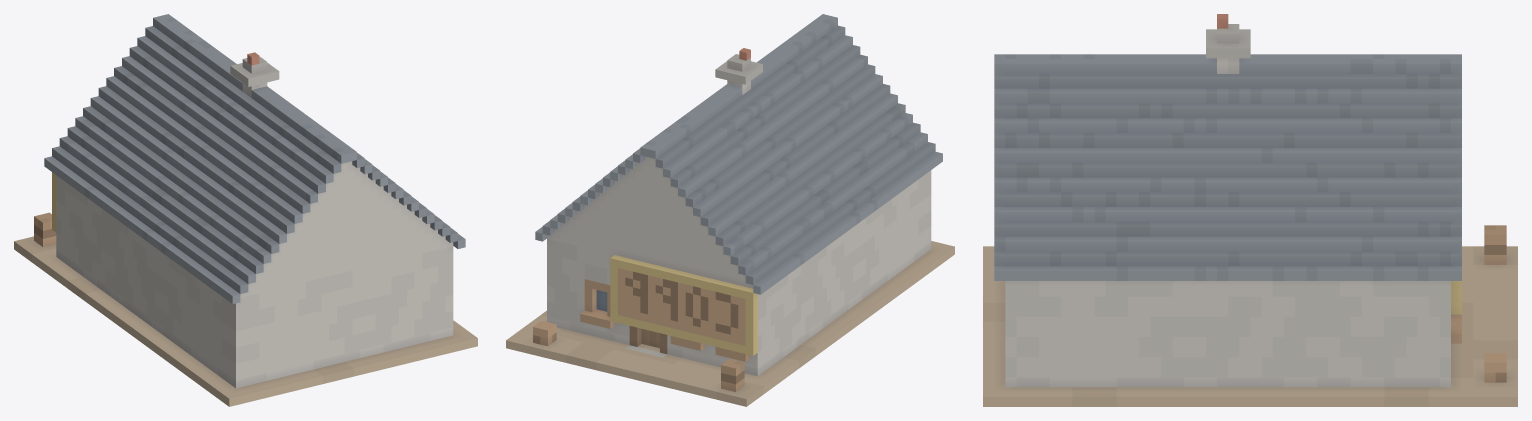
Rendered from copper_smelter.glb.
The picture shows the model from 3 angles, left to right: view 1: azimuth 30°, elevation 25°; view 2: azimuth 150°, elevation 25°; view 3: azimuth 270°, elevation 25°; orthographic projection. The views are drawn at different scales.
Parts seen in each view (by area): view 1: copper_smelter; view 2: copper_smelter; view 3: copper_smelter.
Part boxes in pixels (x1=…): copper_smelter: x1=14, y1=14, x2=477, y2=406; copper_smelter: x1=506, y1=14, x2=954, y2=406; copper_smelter: x1=983, y1=14, x2=1517, y2=406.
Bounding box in the file's own units: 4 × 3.88 × 6.
